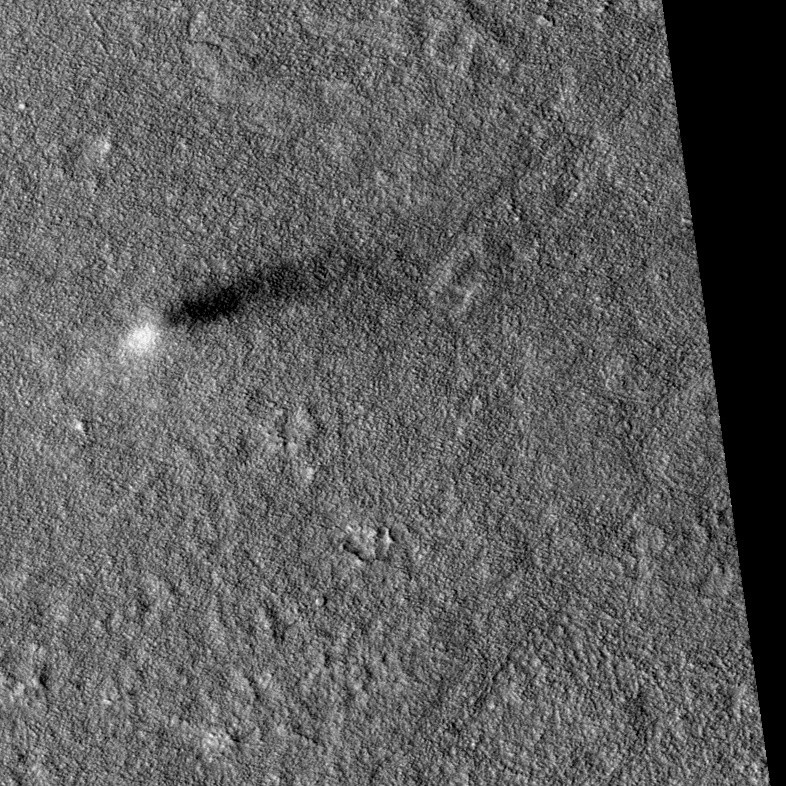dust_devil: (116, 247, 367, 365)
